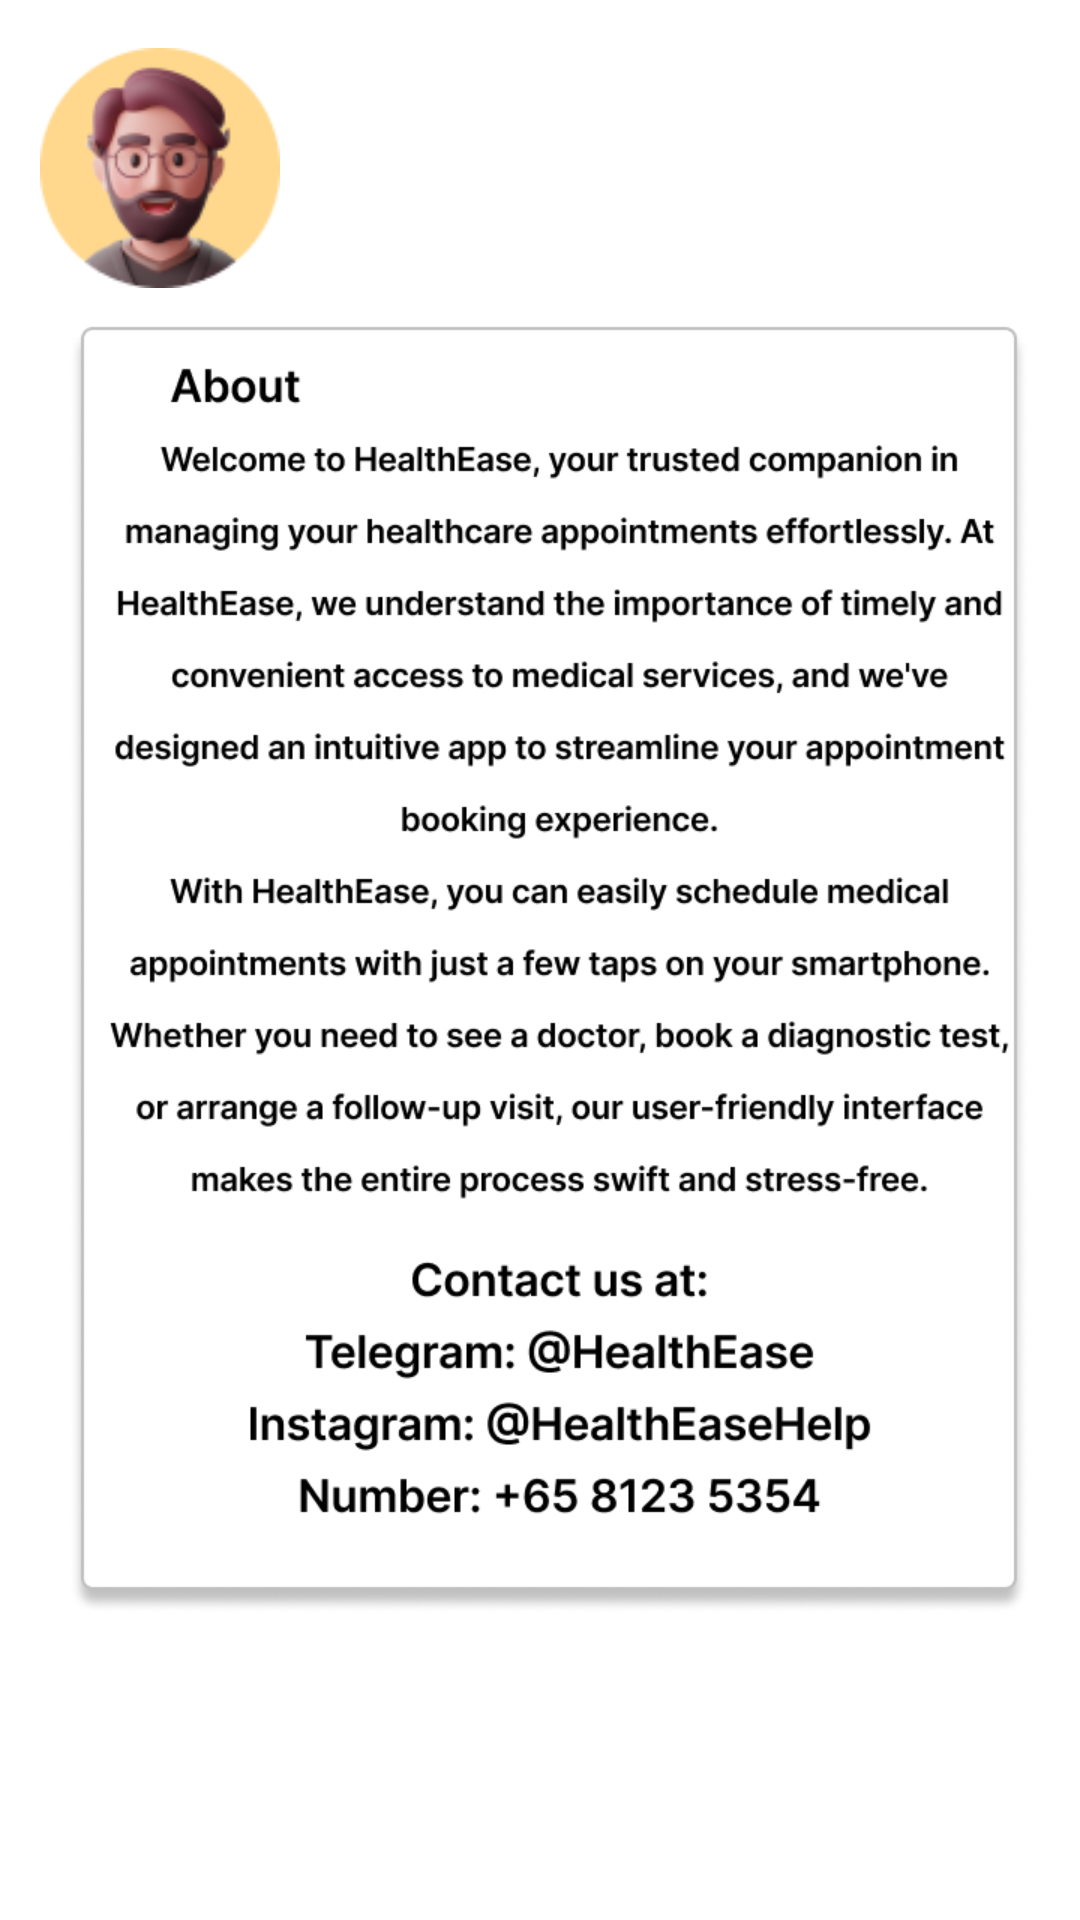

Icons on this 1080*1920 Android screen, each with the point to tap as (x=x, y=y):
user: (x=160, y=168)
